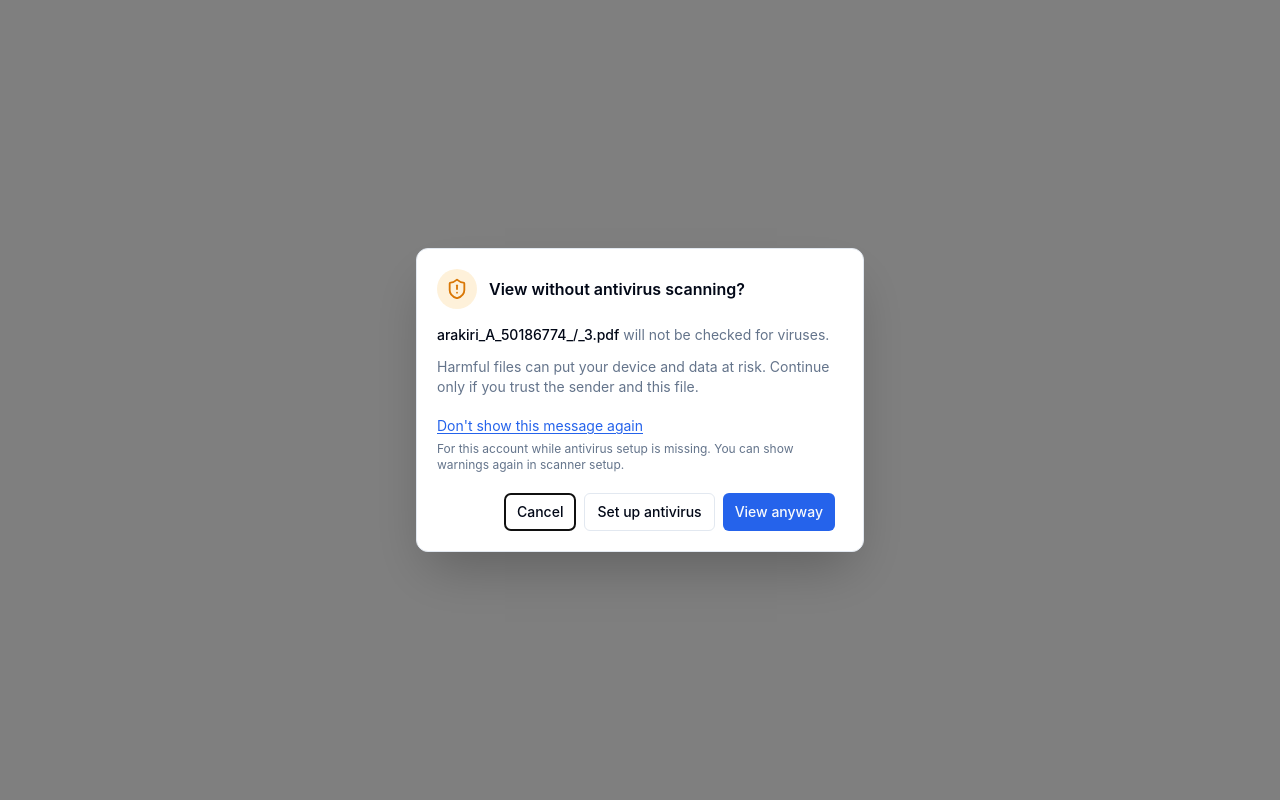
custom warning before attachment access without scanner setup › ignores late completion of a closed warning when another request is visible
Click the button "View anyway" at (779, 512), box [723,493,835,531]
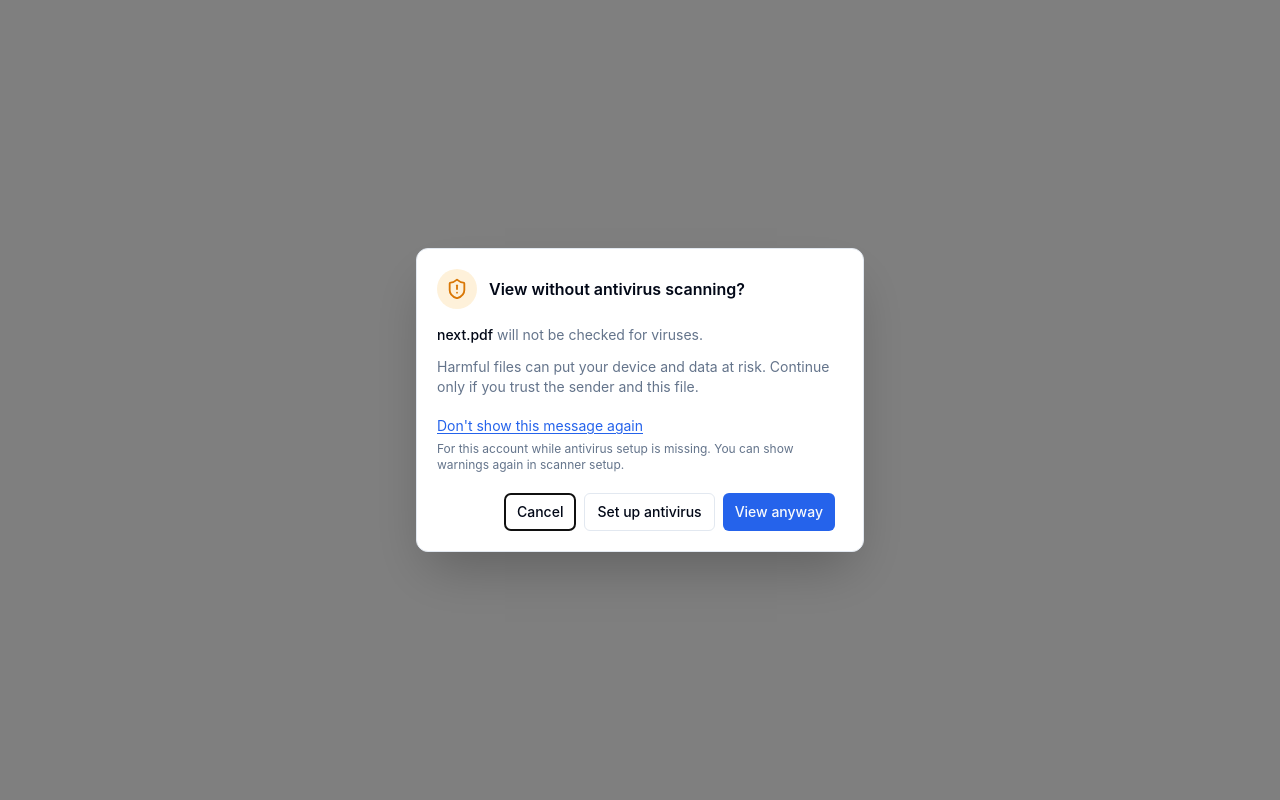
Expected: the text "next.pdf" is shown, [437,326,493,343]
